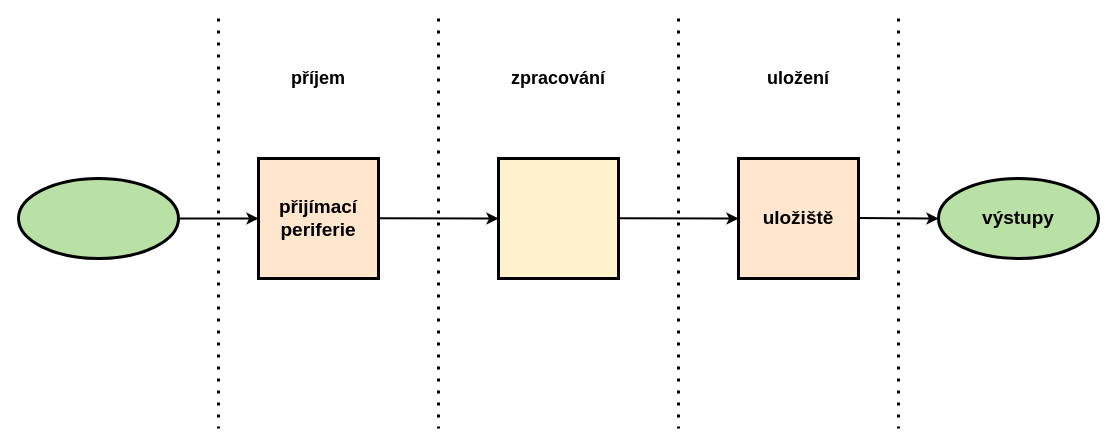
The diagram is 1117 pixels wide and 448 high, and some of its shapes have lost their labels. Each missing label, with the centre of its shape:
"jádro" goes at [558,218].
"vstupy" goes at [98,218].
